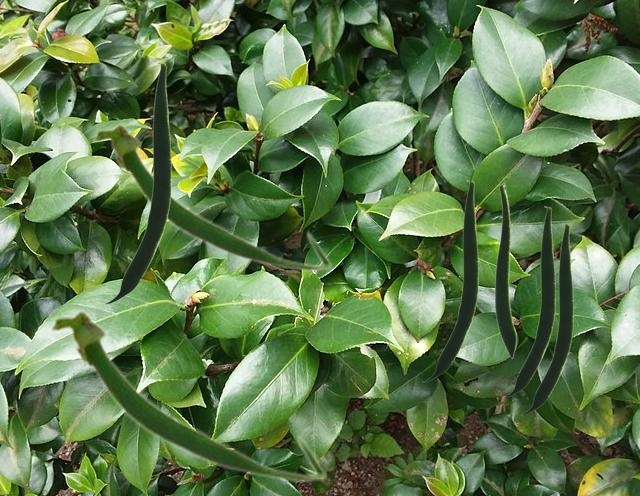french_bean: (48, 307, 327, 483), (91, 121, 332, 272), (104, 62, 170, 303), (422, 180, 477, 381), (520, 223, 572, 414), (502, 206, 554, 397), (494, 182, 516, 358)
